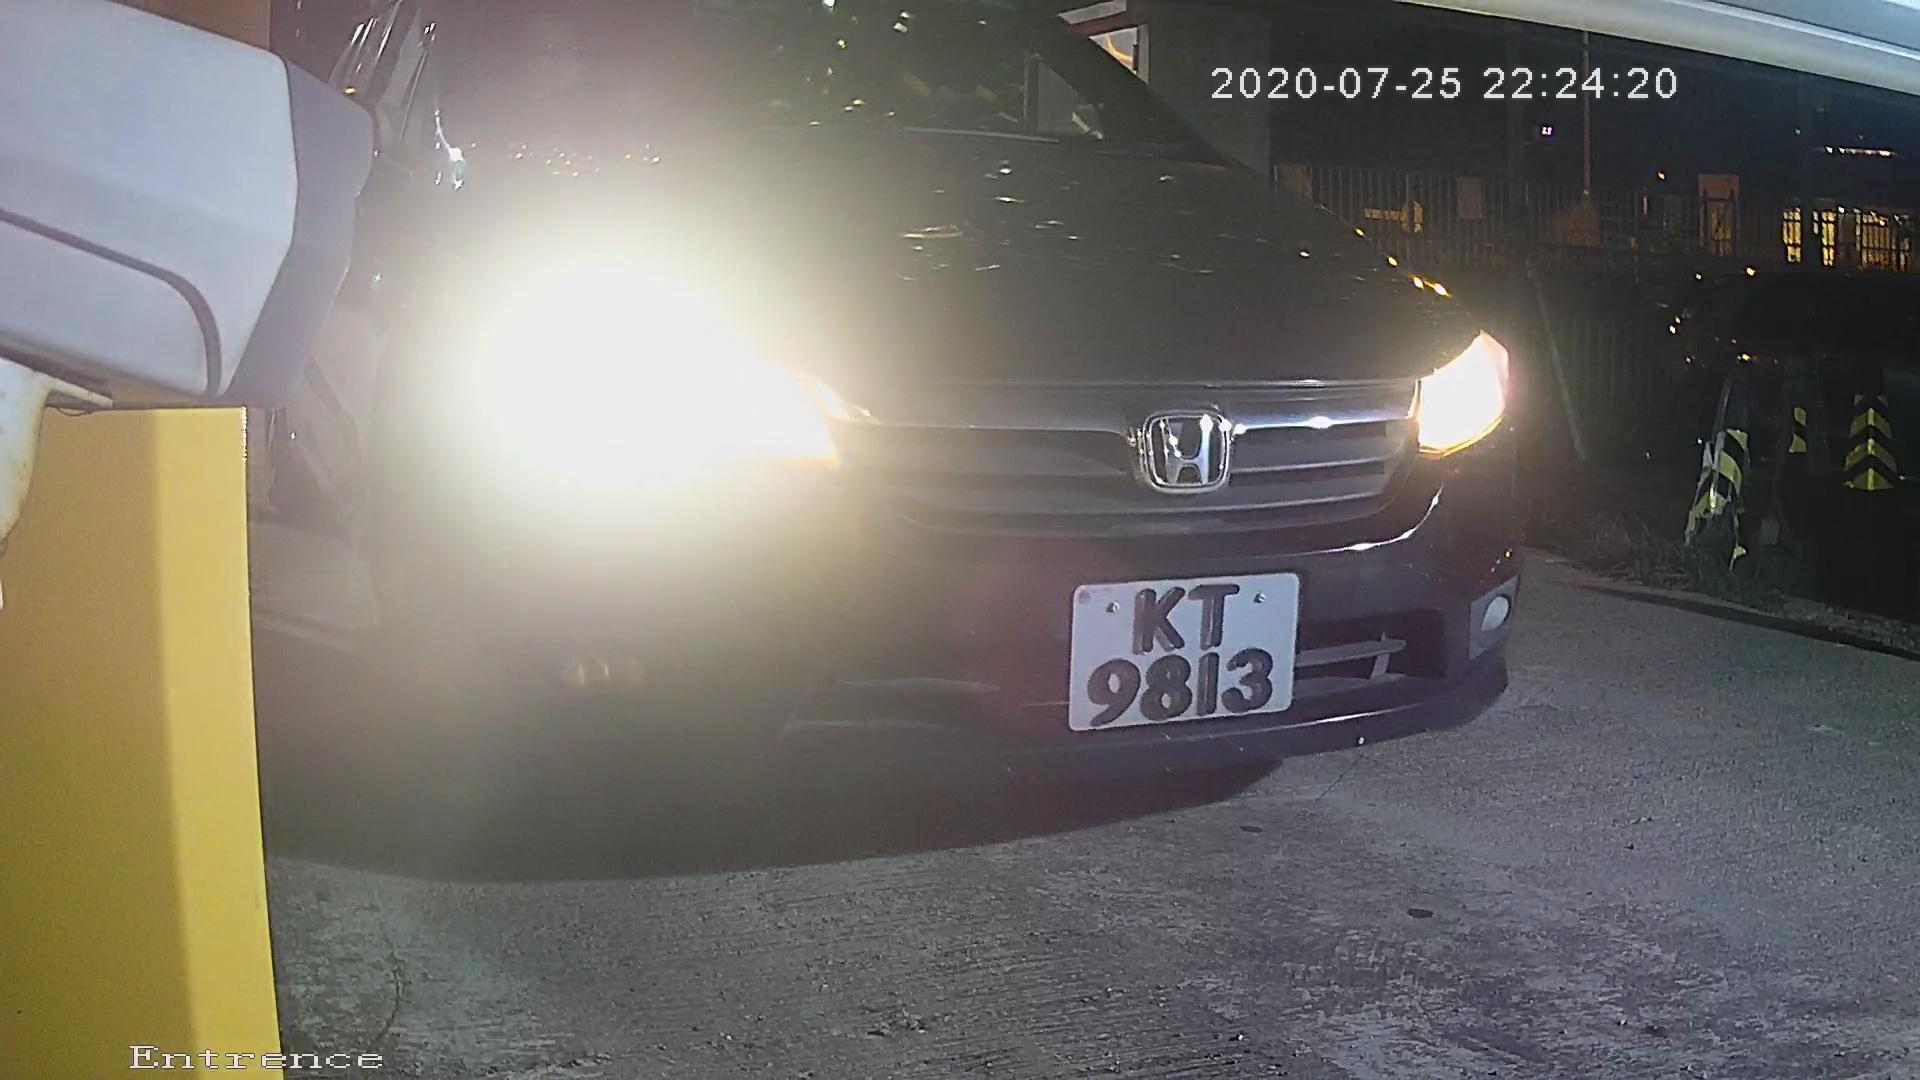License Plate: (1029, 555, 1329, 733)
